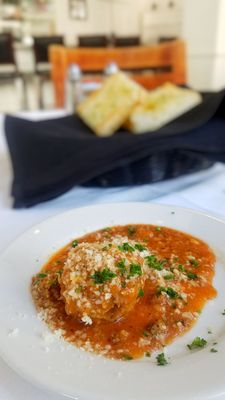sandwich: (29, 224, 218, 364)
